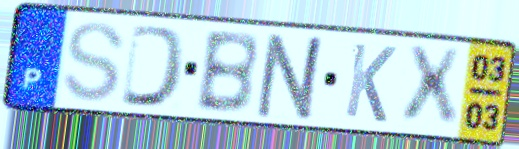B: (192, 29, 261, 117)
D: (117, 21, 190, 110)
K: (341, 39, 399, 126)
N: (251, 30, 331, 124)
S: (59, 19, 128, 105)
X: (399, 44, 465, 130)
